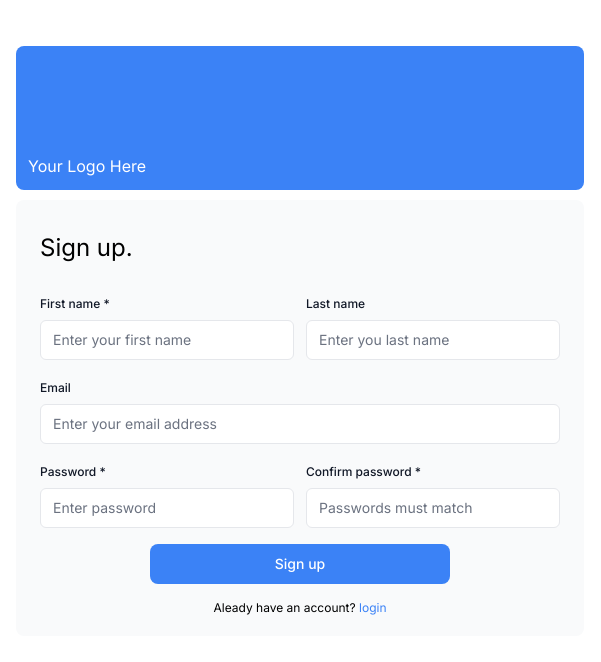
Auth Tests › Signup Validation › should show validation errors with empty inputs
What coordinates should you click on to do the following:
click the button with id "signup"
I would click on:
 (300, 564)
Its box is left=150, top=544, right=450, bottom=584.
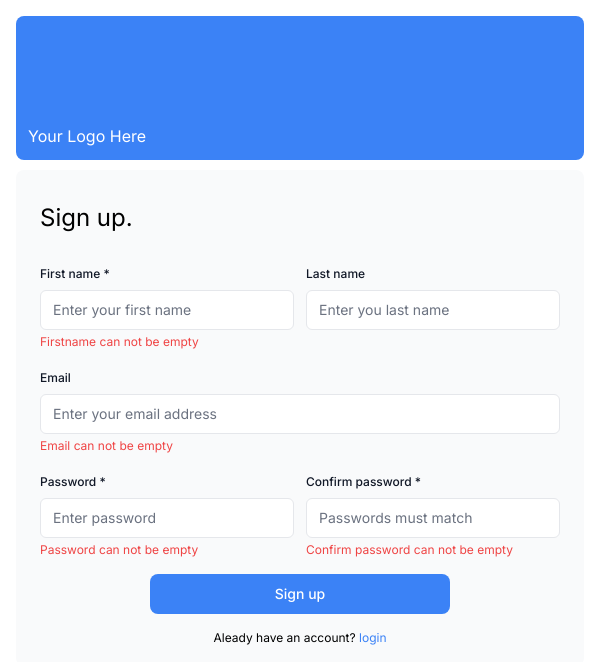
Now the text "Firstname can not be empty" is shown, box left=40, top=334, right=199, bottom=349
Now the text "Email can not be empty" is shown, box left=40, top=438, right=173, bottom=453
Now the text "Password can not be empty" is shown, box left=40, top=542, right=198, bottom=557
